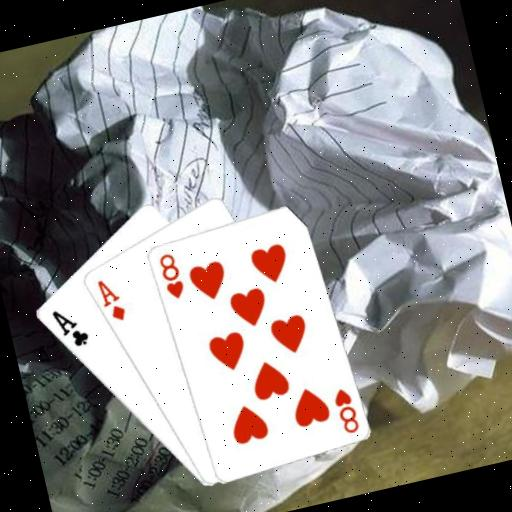8H: (153, 249, 187, 303), (328, 383, 362, 437)
AC: (47, 301, 92, 353)
AD: (93, 273, 129, 326)
